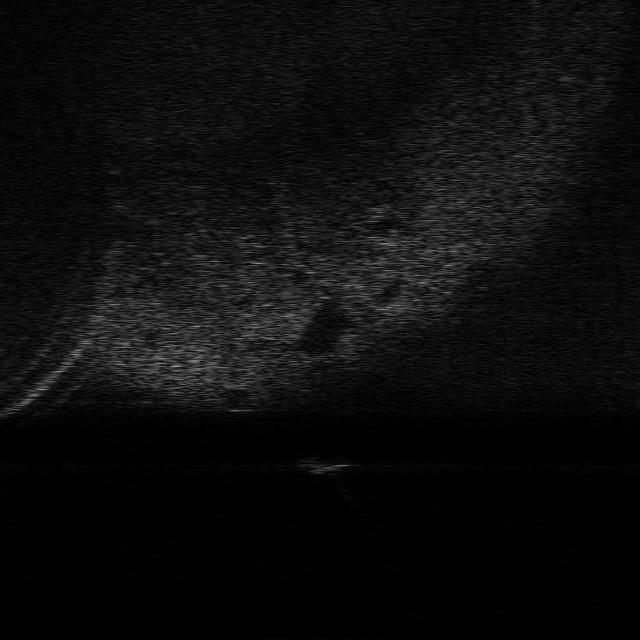cube: (296, 455, 350, 475)
